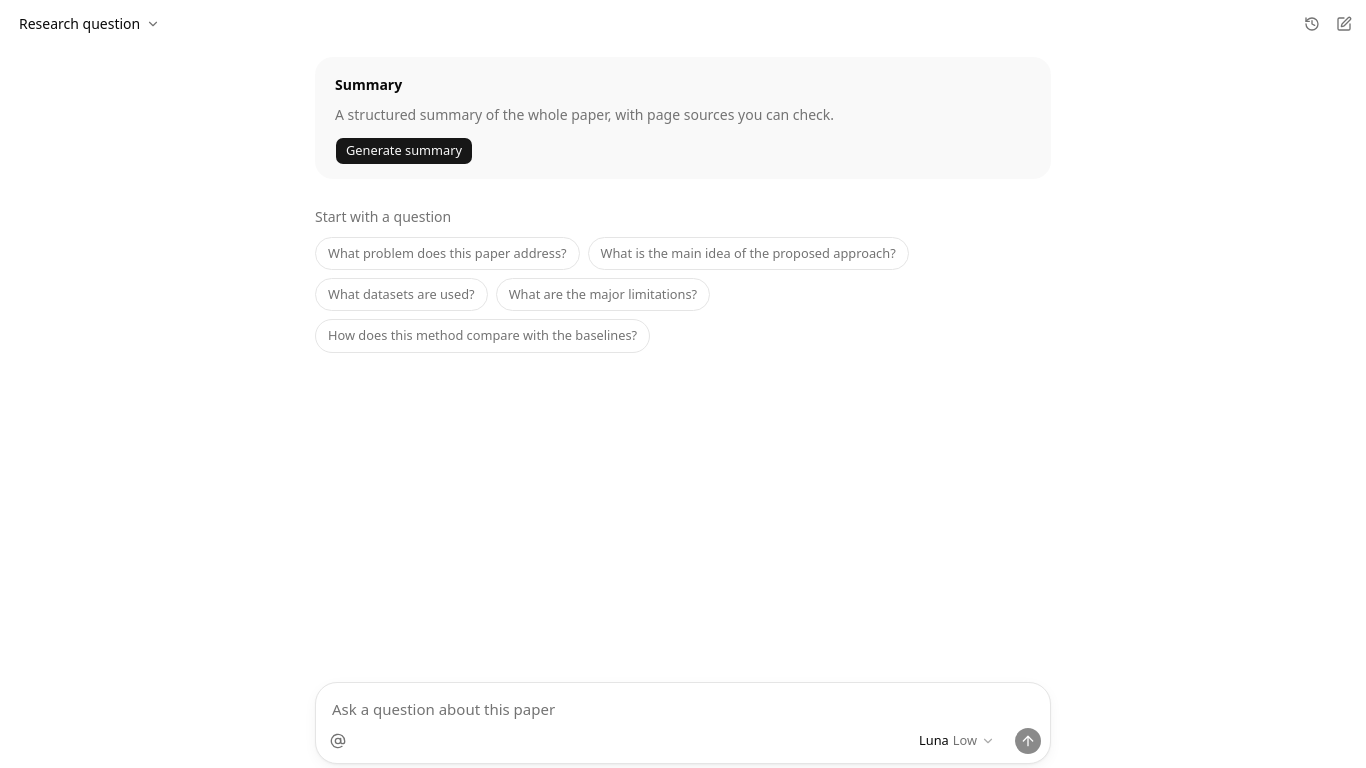
Scenario: Given the provider fails mid-answer, Then its reason is shown inline and the answer is marked failed
Step 1. Type "What failed?" into the field named "Question about this paper" → (683,705), box [316, 683, 1050, 727]
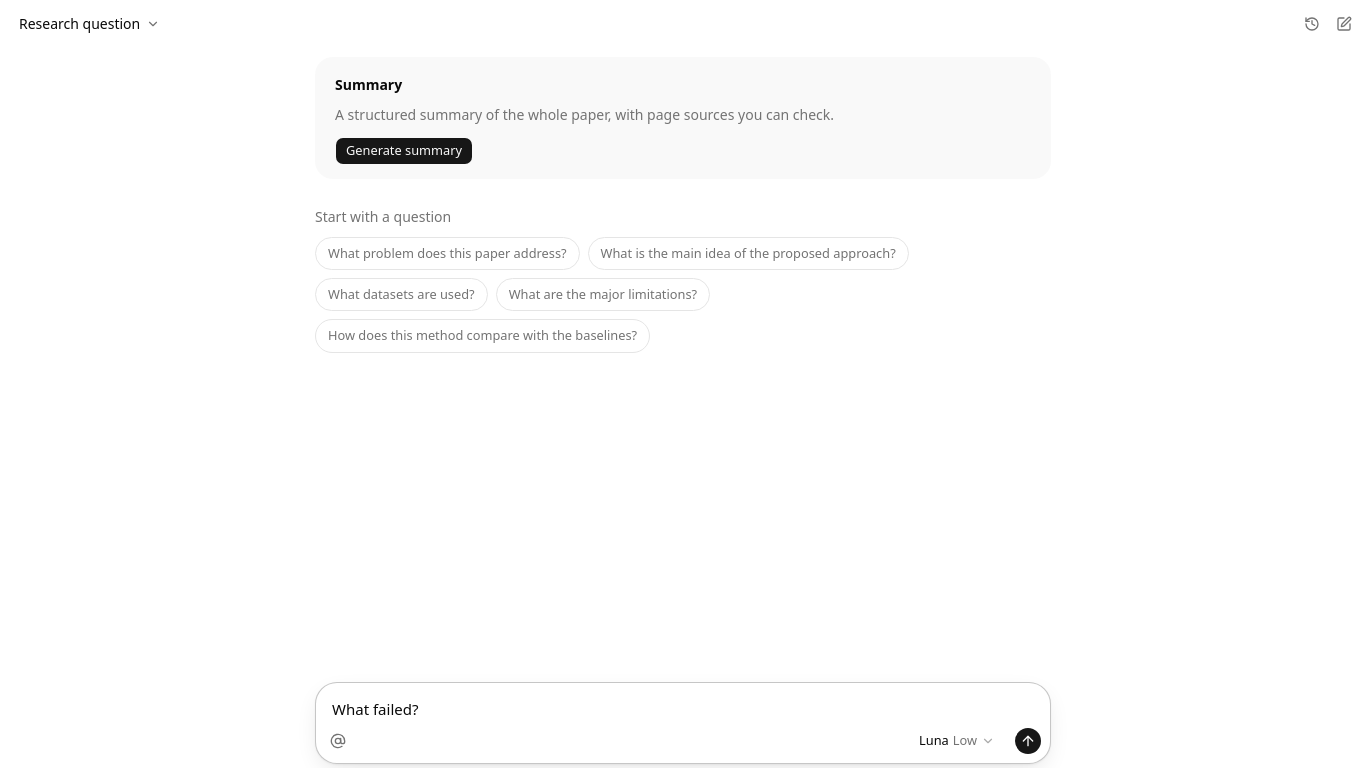
Step 2. Click the button named "Ask question" → (1028,741), box [1014, 727, 1042, 755]
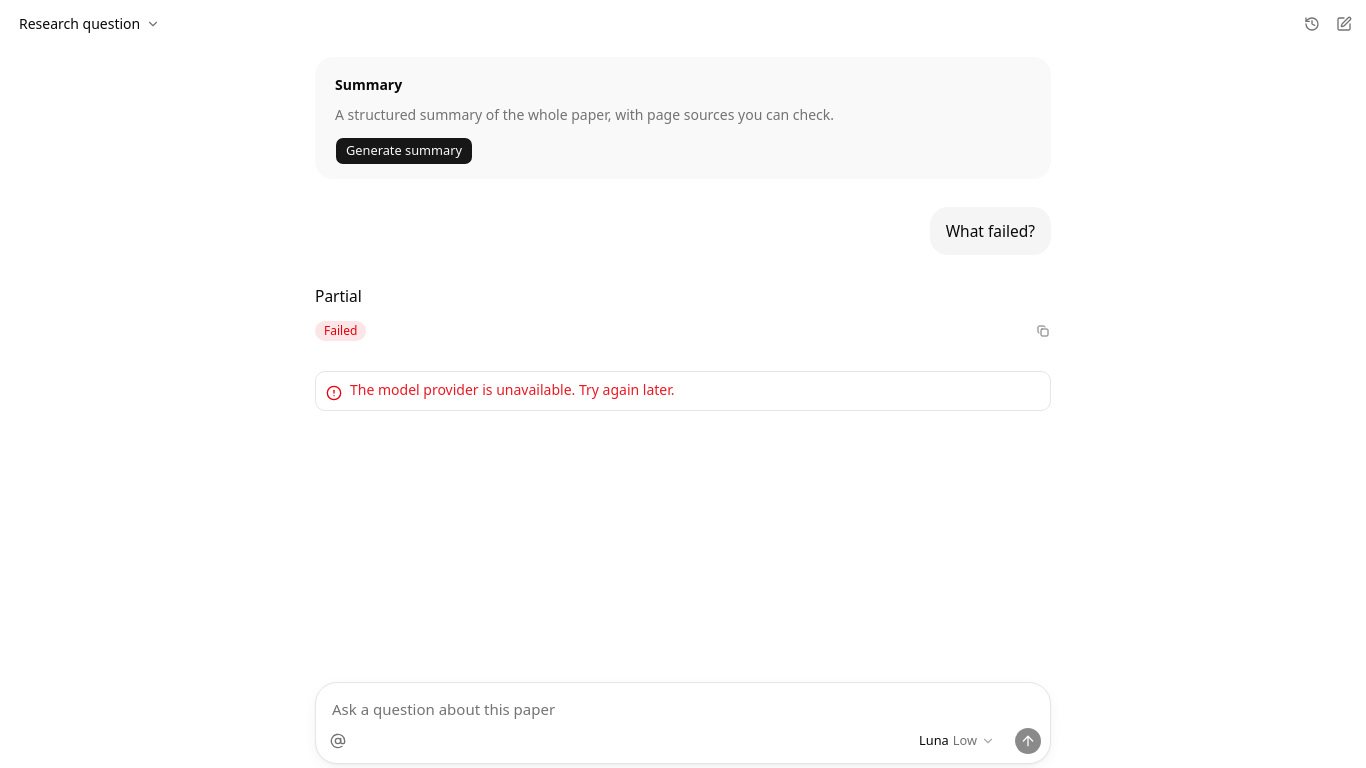
Check: the message reads "The model provider is unavailable. Try again later.", box [350, 380, 674, 399]
Check: the icon "Failed" is shown, box [315, 321, 366, 341]
